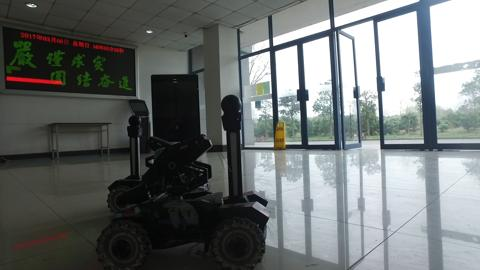chariot: (100, 86, 275, 268), (99, 114, 211, 206)
